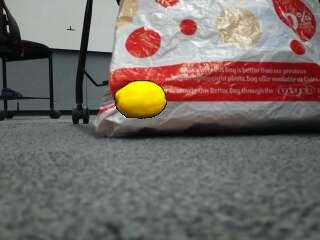lemon: (116, 81, 166, 117)
